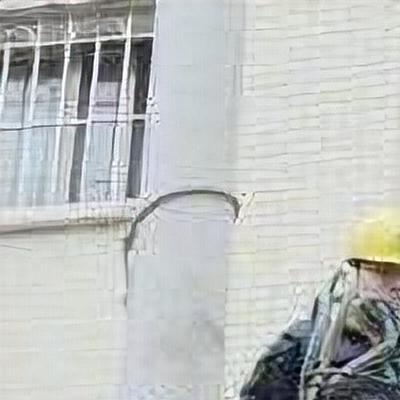hardHat: (338, 199, 400, 315)
